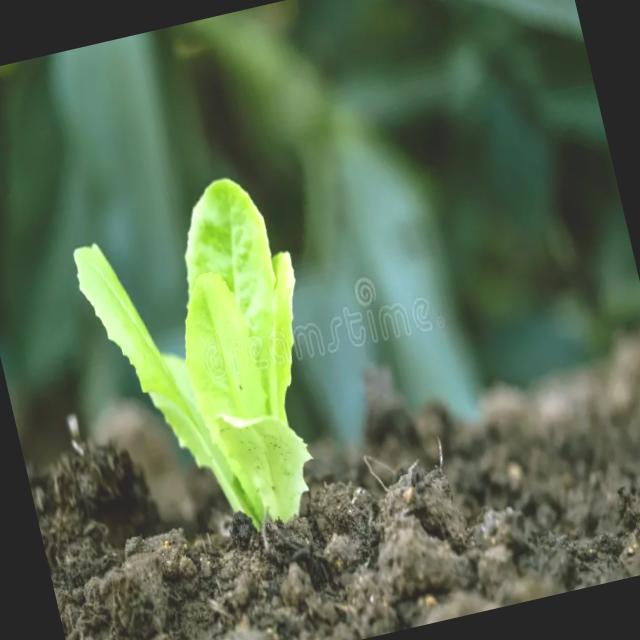verde: (73, 178, 309, 524)
